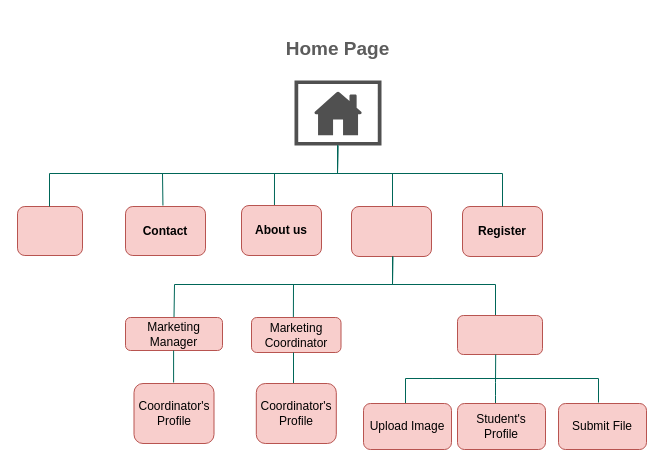
Image size: 664x470. Some labels were removed from this diagram. Each missing label, with the centre of its shape:
Home: [49,231]
Login: [391,231]
Student: [499,334]
